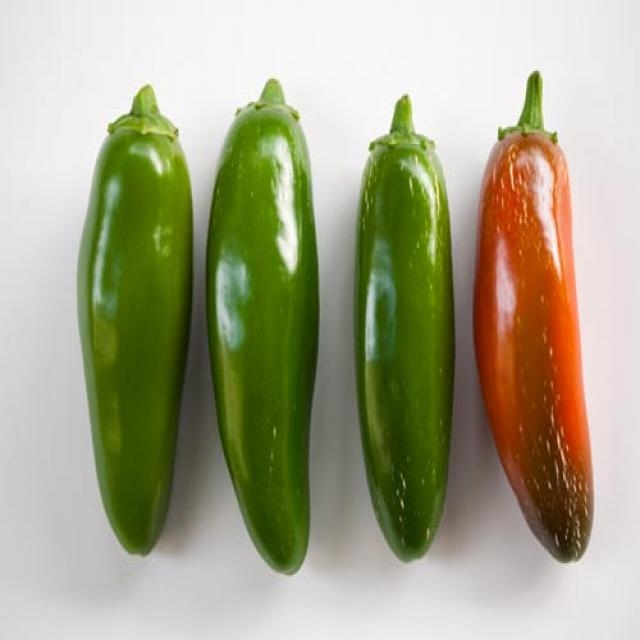aji: (200, 75, 344, 599), (488, 85, 611, 567), (80, 90, 202, 559), (354, 85, 460, 591)
